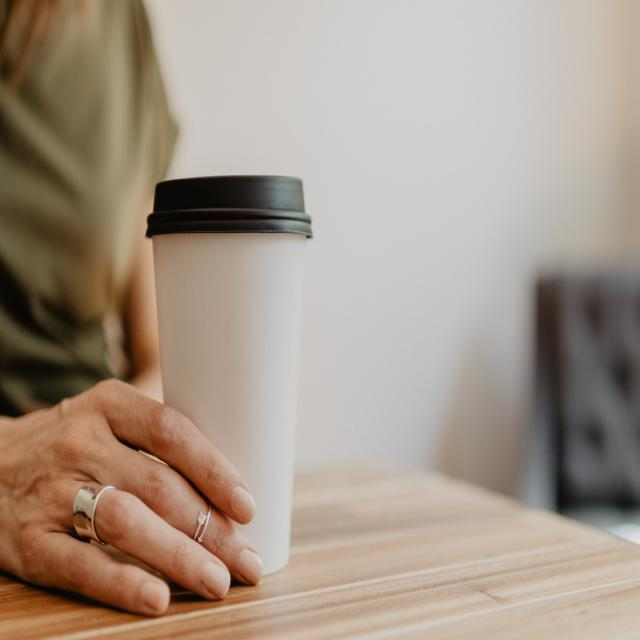cup: (144, 174, 316, 581)
